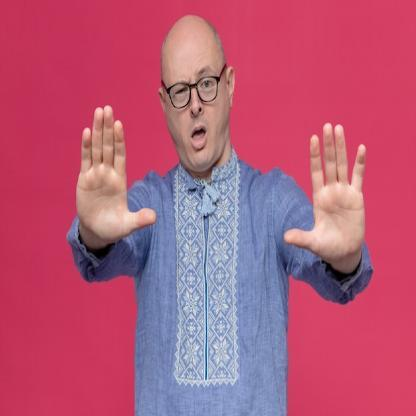stop: (282, 114, 370, 262), (76, 100, 158, 247)
